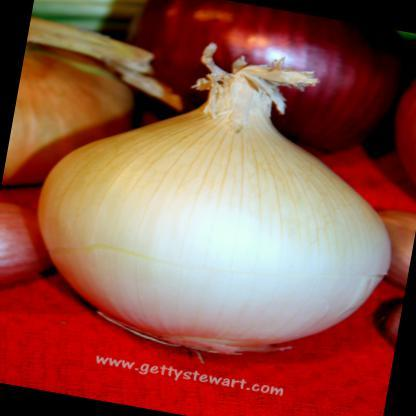onion: (15, 32, 415, 382)
